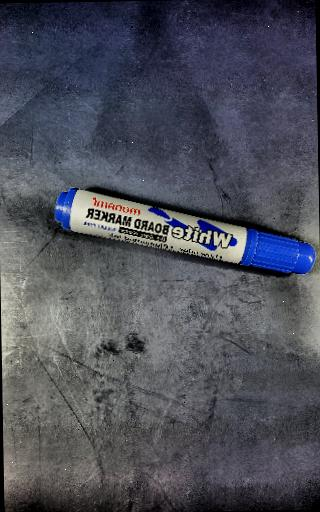marcador azul: (55, 187, 315, 274)
